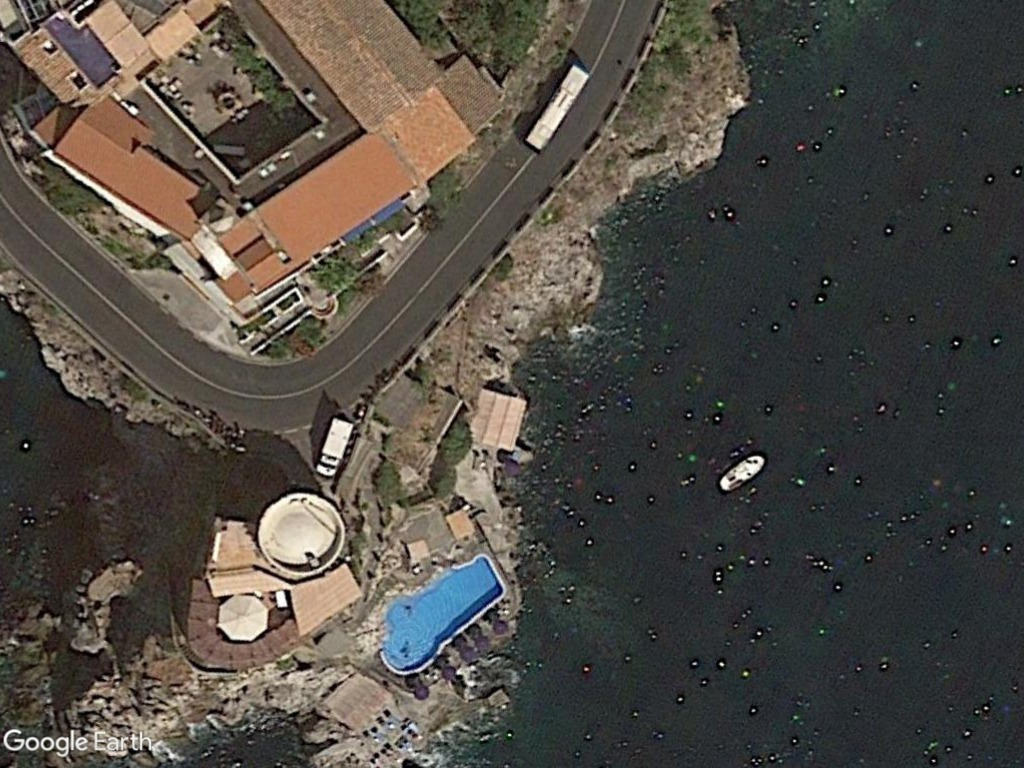boat: (716, 450, 765, 495)
bus: (520, 58, 590, 157)
truck: (311, 409, 356, 481)
